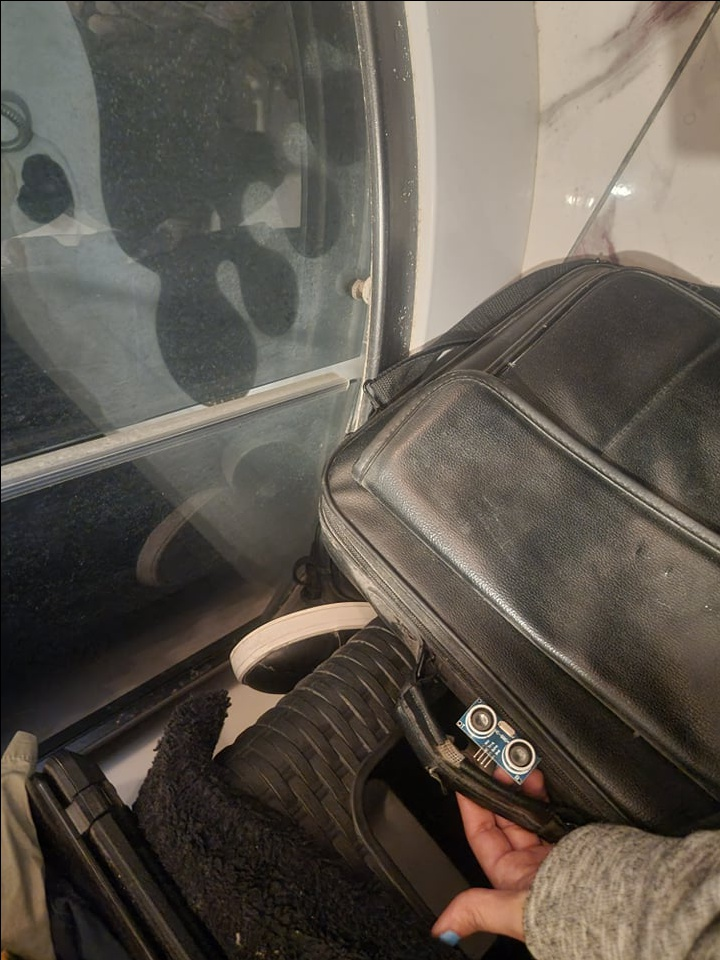SENSOR: (454, 698, 540, 788)
